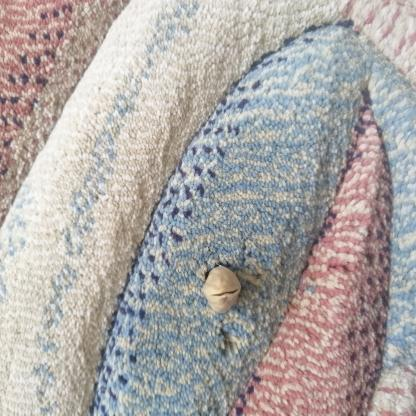pistachio: (197, 265, 249, 314)
